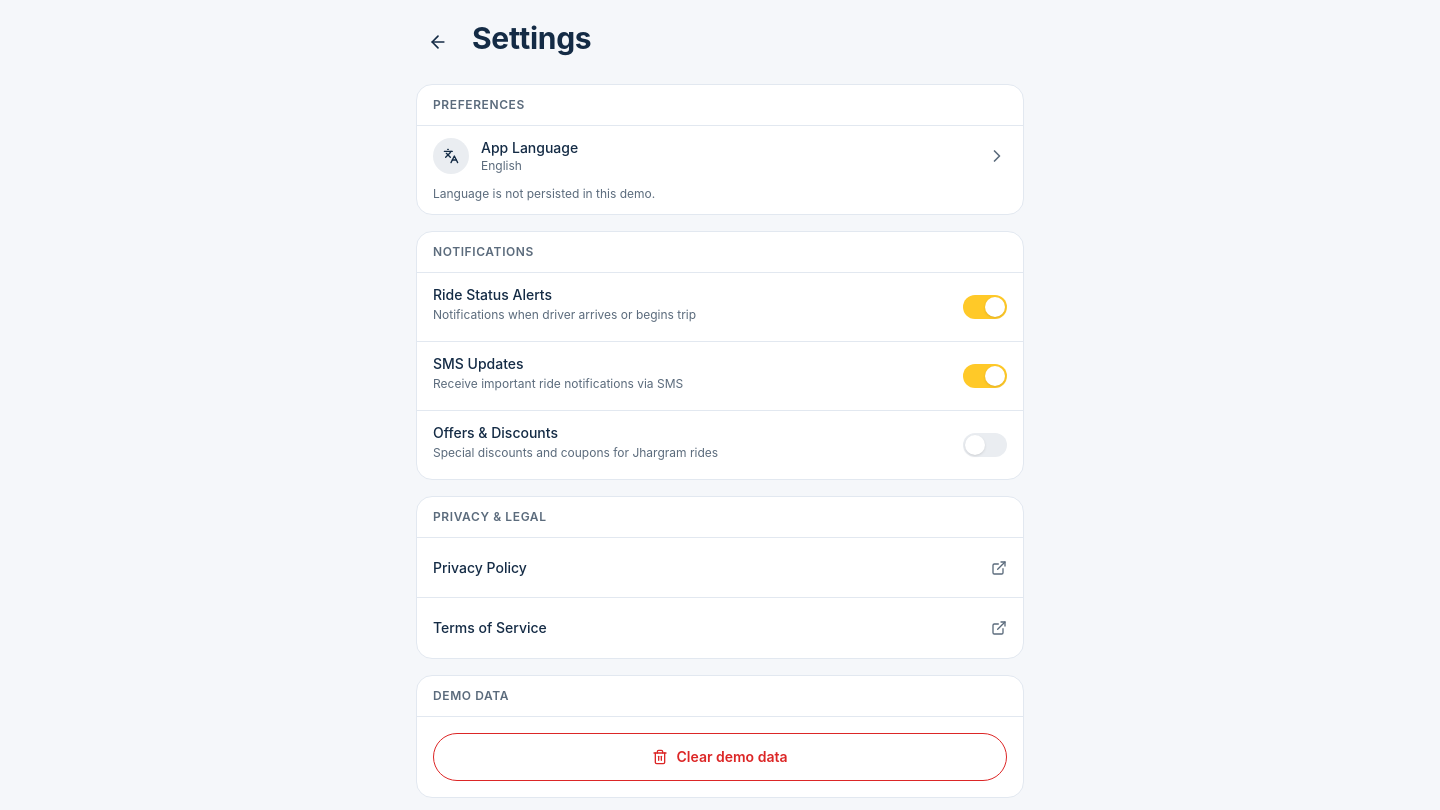
it: settings › changes the app language and closes the sheet
Expected: the text "English" is shown, top-left (481, 158), bottom-right (522, 173)
Click the button "App Language English".
click(451, 156)  # box top-left (417, 126), bottom-right (1023, 186)
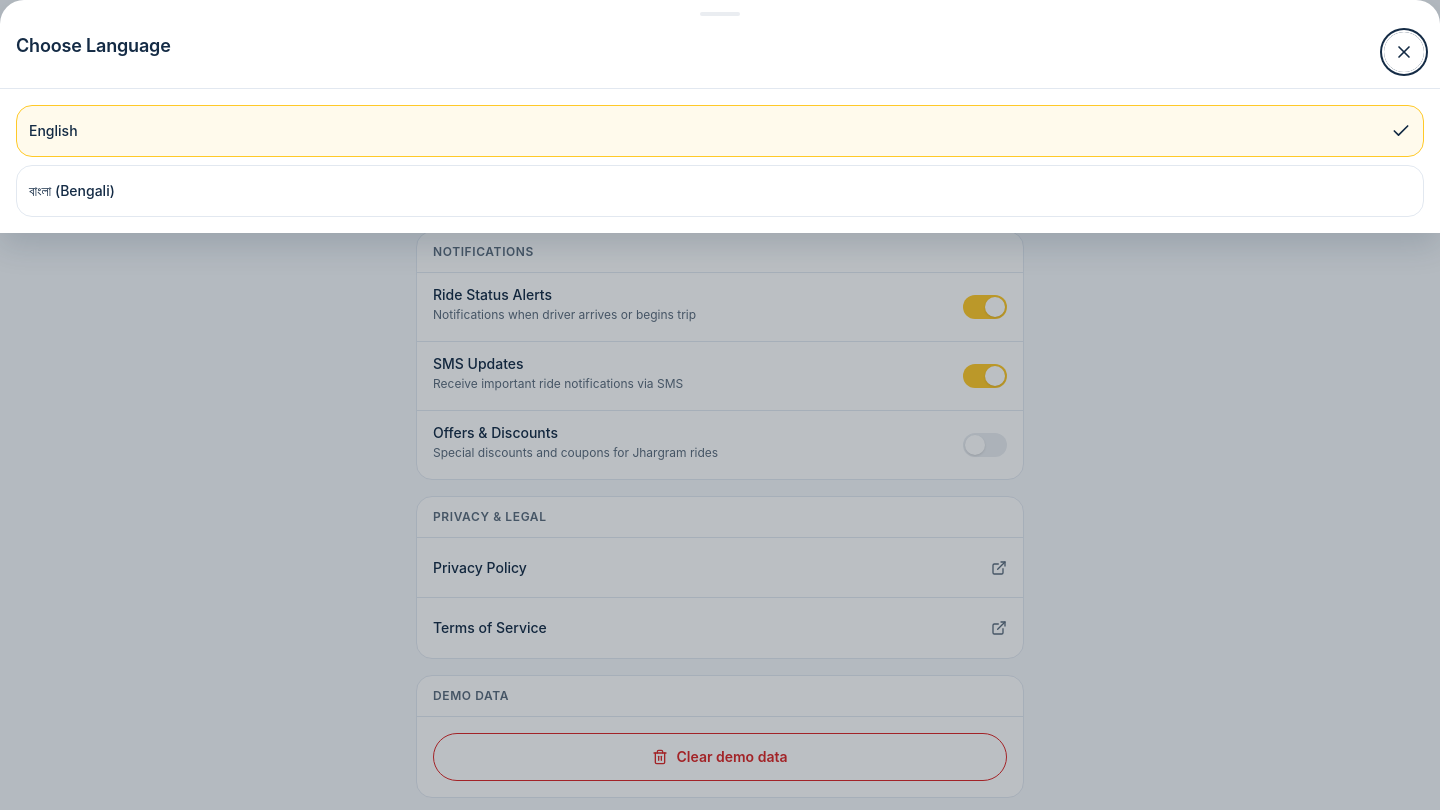
Click the radio button labelled "বাংলা (Bengali)".
click(72, 190)  # box top-left (16, 165), bottom-right (1424, 217)
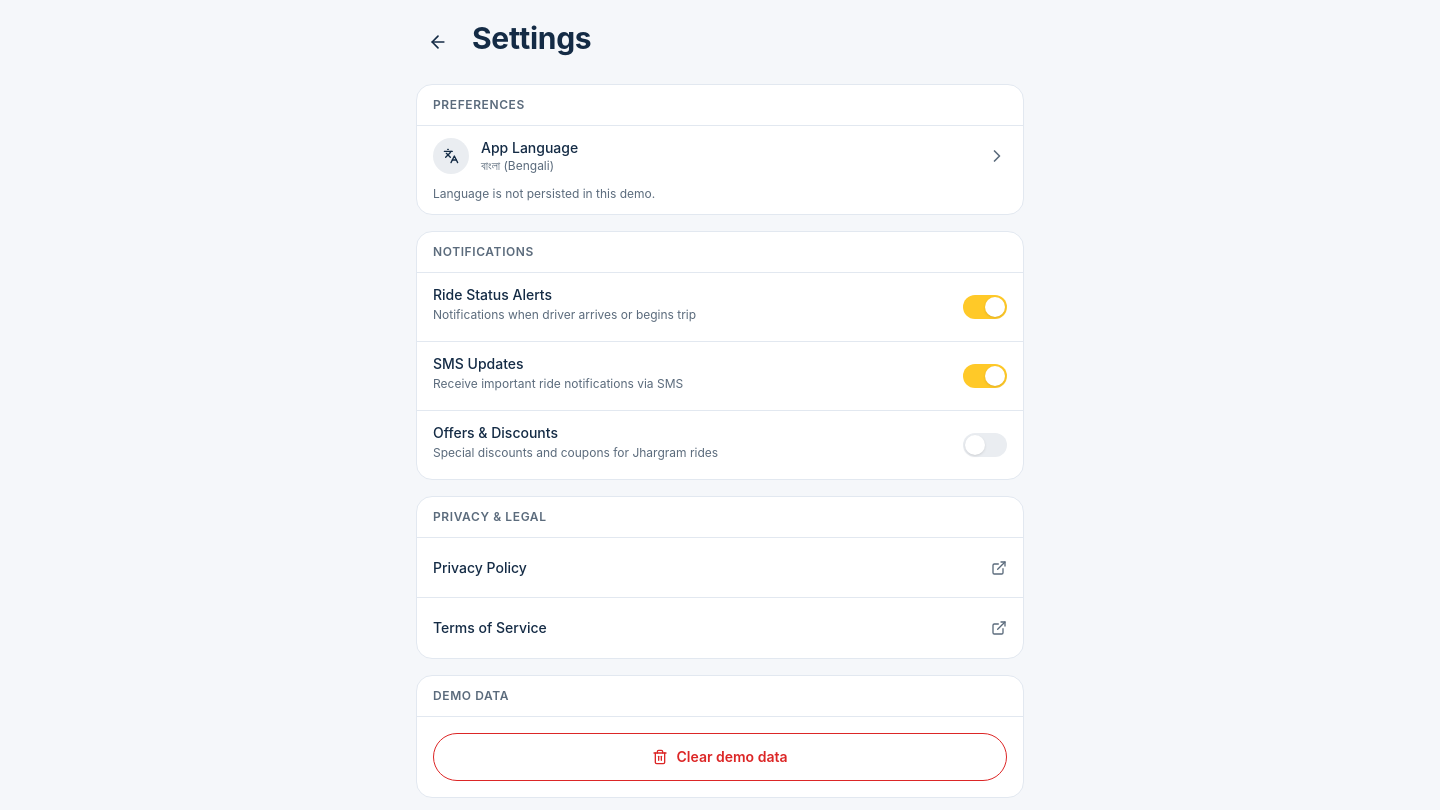
Now the heading "Choose Language" is gone
Now the text "বাংলা (Bengali)" is shown, box top-left (481, 158), bottom-right (554, 173)
